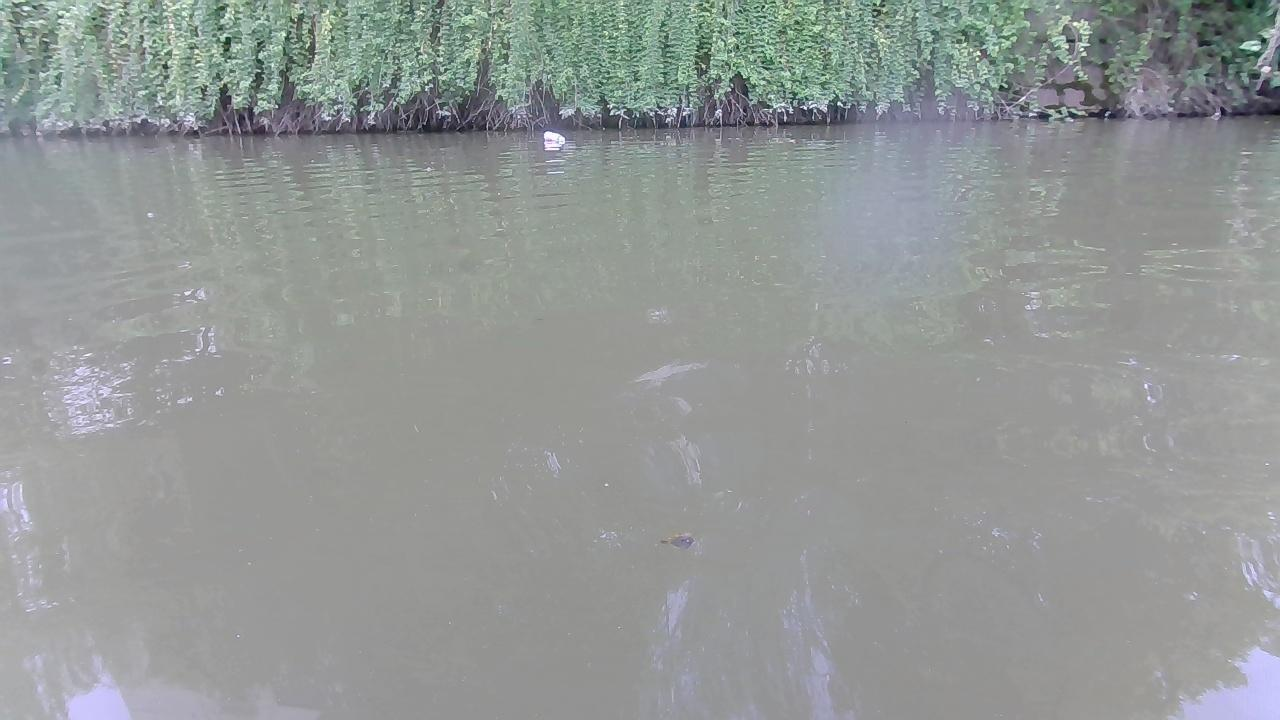bottle: (542, 132, 568, 147)
